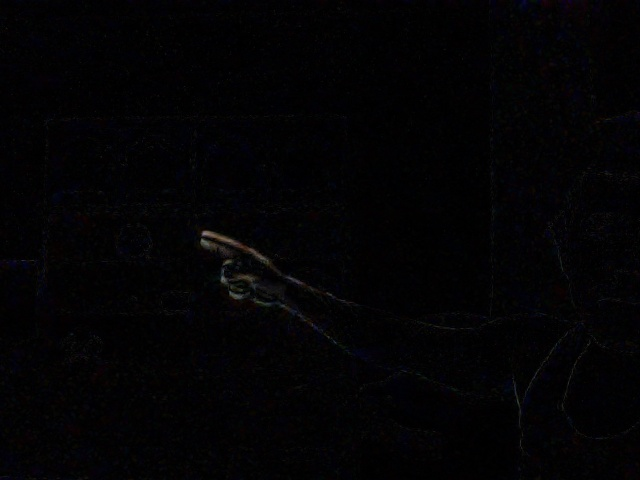hand_po: (192, 222, 283, 305)
